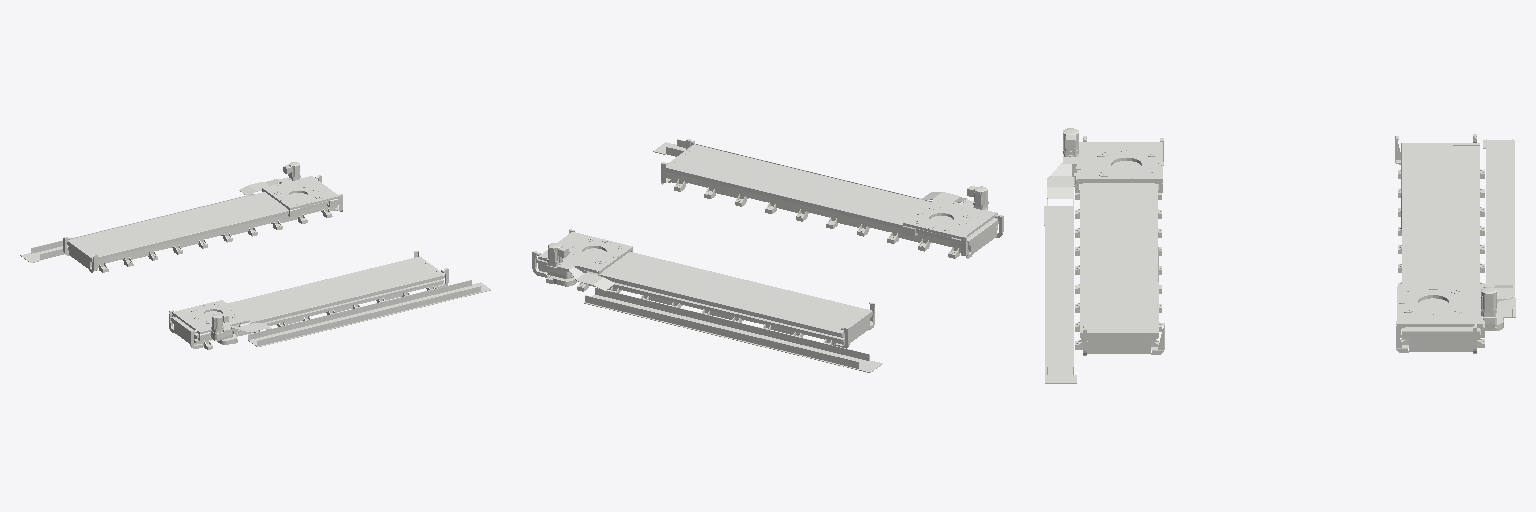
The robot description file, URDF, robot "full_cell":
<?xml version="1.0" encoding="utf-8"?>
<!-- =================================================================================== -->
<!-- |    This document was autogenerated by xacro from full_cell.xacro                | -->
<!-- |    EDITING THIS FILE BY HAND IS NOT RECOMMENDED                                 | -->
<!-- =================================================================================== -->
<robot name="full_cell">
  <!-- Conversion were obtained from http://www.e-paint.co.uk/Lab_values.asp
       unless otherwise stated. -->
  <!-- =================================================================================== -->
  <link name="world"/>
  <joint name="A_world_joint" type="fixed">
    <parent link="world"/>
    <child link="A_axis"/>
    <origin rpy="0.0 0.0 0.0" xyz="0.0 0.0 0.0"/>
  </joint>
  <!-- Conversion were obtained from http://www.e-paint.co.uk/Lab_values.asp
       unless otherwise stated. -->
  <!-- Conversion were obtained from http://www.e-paint.co.uk/Lab_values.asp
       unless otherwise stated. -->
  <link name="A_axis">
    <inertial>
      <origin xyz="0.0 0.0 0.0"/>
      <mass value="120"/>
      <inertia ixx="-4.98000" ixy="-0.00000" ixz="2.70000" iyy="-5.95200" iyz="-0.00000" izz="0.82800"/>
    </inertial>
    <visual>
      <geometry>
        <mesh filename="package://princeton_cell/meshes/visual/axis.stl"/>
      </geometry>
      <material name="">
        <color rgba="0.9254902 0.9254902 0.9058824 1"/>
      </material>
    </visual>
    <collision>
      <geometry>
        <mesh filename="package://princeton_cell/meshes/collision/axis.stl"/>
      </geometry>
    </collision>
  </link>
  <joint name="A_cart_joint" type="prismatic">
    <parent link="A_axis"/>
    <child link="A_cart"/>
    <origin rpy="0 0 0 " xyz="0 0 0"/>
    <axis xyz="1 0 0"/>
    <limit effort="100000" lower="-1.926" upper="0.675" velocity="2.618"/>
    <dynamics damping="0.2" friction="0"/>
  </joint>
  <link name="A_cart">
    <inertial>
      <origin xyz="0.0 0.0 0.0"/>
      <mass value="120.00000"/>
      <inertia ixx="-4.98000" ixy="-0.00000" ixz="2.70000" iyy="-5.95200" iyz="-0.00000" izz="0.82800"/>
    </inertial>
    <visual>
      <geometry>
        <mesh filename="package://princeton_cell/meshes/visual/cart.stl"/>
      </geometry>
      <material name="">
        <color rgba="0.9254902 0.9254902 0.9058824 1"/>
      </material>
    </visual>
    <collision>
      <geometry>
        <mesh filename="package://princeton_cell/meshes/collision/cart.stl"/>
      </geometry>
    </collision>
  </link>
  <joint name="A_abb_joint" type="fixed">
    <parent link="A_cart"/>
    <child link="A_base_link"/>
    <origin rpy="0 0 1.57079632679 " xyz="0 0 0 "/>
    <dynamics damping="0.2" friction="0"/>
  </joint>
  <!-- link list -->
  <link name="A_base_link">
    <inertial>
      <origin xyz="0.0 0.0 0.0"/>
      <mass value="120.00000"/>
      <inertia ixx="-4.98000" ixy="-0.00000" ixz="2.70000" iyy="-5.95200" iyz="-0.00000" izz="0.82800"/>
    </inertial>
    <visual>
      <geometry>
        <mesh filename="package://abb_irb4600_40_255/meshes/visual/base_link.stl"/>
      </geometry>
      <material name="">
        <color rgba="0.7725490 0.7803922 0.7686275 1"/>
      </material>
    </visual>
    <collision>
      <geometry>
        <mesh filename="package://abb_irb4600_40_255/meshes/collision/base_link.stl"/>
      </geometry>
    </collision>
  </link>
  <link name="A_link_1">
    <inertial>
      <origin xyz="0.18000 0.00000 0.50000"/>
      <mass value="120.00000"/>
      <inertia ixx="-4.98000" ixy="-0.00000" ixz="2.70000" iyy="-5.95200" iyz="-0.00000" izz="0.82800"/>
    </inertial>
    <visual>
      <geometry>
        <mesh filename="package://abb_irb4600_40_255/meshes/visual/link_1.stl"/>
      </geometry>
      <material name="">
        <color rgba="0.7725490 0.7803922 0.7686275 1"/>
      </material>
    </visual>
    <collision>
      <geometry>
        <mesh filename="package://abb_irb4600_40_255/meshes/collision/link_1.stl"/>
      </geometry>
    </collision>
  </link>
  <link name="A_link_2">
    <inertial>
      <origin xyz="0.94000 0.08000 -0.34000"/>
      <mass value="120.00000"/>
      <inertia ixx="-2.96000" ixy="2.25600" ixz="-9.58800" iyy="-18.72601" iyz="-0.81600" izz="-14.95000"/>
    </inertial>
    <visual>
      <geometry>
        <mesh filename="package://abb_irb4600_40_255/meshes/visual/link_2.stl"/>
      </geometry>
      <material name="">
        <color rgba="0.7725490 0.7803922 0.7686275 1"/>
      </material>
    </visual>
    <collision>
      <geometry>
        <mesh filename="package://abb_irb4600_40_255/meshes/collision/link_2.stl"/>
      </geometry>
    </collision>
  </link>
  <link name="A_link_3">
    <inertial>
      <origin xyz="0.07000 -0.26600 0.08800"/>
      <mass value="120.00000"/>
      <inertia ixx="1.34500" ixy="-0.55860" ixz="0.18480" iyy="4.65068" iyz="-0.70224" izz="2.76032"/>
    </inertial>
    <visual>
      <geometry>
        <mesh filename="package://abb_irb4600_40_255/meshes/visual/link_3.stl"/>
      </geometry>
      <material name="">
        <color rgba="0.7725490 0.7803922 0.7686275 1"/>
      </material>
    </visual>
    <collision>
      <geometry>
        <mesh filename="package://abb_irb4600_40_255/meshes/collision/link_3.stl"/>
      </geometry>
    </collision>
  </link>
  <link name="A_link_4">
    <inertial>
      <origin xyz="0.00000 0.00000 1.00000"/>
      <mass value="40.00000"/>
      <inertia ixx="-8.00000" ixy="-0.00000" ixz="-0.00000" iyy="-8.00000" iyz="-0.00000" izz="0.48200"/>
    </inertial>
    <visual>
      <geometry>
        <mesh filename="package://abb_irb4600_40_255/meshes/visual/link_4.stl"/>
      </geometry>
      <material name="">
        <color rgba="0.7725490 0.7803922 0.7686275 1"/>
      </material>
    </visual>
    <collision>
      <geometry>
        <mesh filename="package://abb_irb4600_40_255/meshes/collision/link_4.stl"/>
      </geometry>
    </collision>
  </link>
  <link name="A_link_5">
    <inertial>
      <origin xyz="0.14000 0.00000 0.00000"/>
      <mass value="10.00000"/>
      <inertia ixx="0.04000" ixy="-0.00000" ixz="-0.00000" iyy="-0.00900" iyz="-0.00000" izz="-0.00400"/>
    </inertial>
    <visual>
      <geometry>
        <mesh filename="package://abb_irb4600_40_255/meshes/visual/link_5.stl"/>
      </geometry>
      <material name="">
        <color rgba="0.7725490 0.7803922 0.7686275 1"/>
      </material>
    </visual>
    <collision>
      <geometry>
        <mesh filename="package://abb_irb4600_40_255/meshes/collision/link_5.stl"/>
      </geometry>
    </collision>
  </link>
  <link name="A_link_6">
    <inertial>
      <origin xyz="0.08100 -0.09100 0.33200"/>
      <mass value="5.00000"/>
      <inertia ixx="-0.29652" ixy="-0.03686" ixz="0.09396" iyy="-0.28792" iyz="-0.10556" izz="-0.04621"/>
    </inertial>
    <visual>
      <geometry>
        <mesh filename="package://abb_irb4600_40_255/meshes/visual/link_6.stl"/>
      </geometry>
      <material name="">
        <color rgba="0.1882353 0.1960784 0.2039216 1"/>
      </material>
    </visual>
    <collision>
      <geometry>
        <mesh filename="package://abb_irb4600_40_255/meshes/collision/link_6.stl"/>
      </geometry>
    </collision>
  </link>
  <link name="A_tool0"/>
  <!-- end of link list -->
  <!-- joint list -->
  <joint name="A_joint_1" type="revolute">
    <parent link="A_base_link"/>
    <child link="A_link_1"/>
    <origin rpy="0 0 0 " xyz="0 0 0"/>
    <axis xyz="0 0 1"/>
    <limit effort="100000" lower="-3.14159" upper="3.14159" velocity="2.618"/>
    <dynamics damping="0.2" friction="0"/>
  </joint>
  <joint name="A_joint_2" type="revolute">
    <parent link="A_link_1"/>
    <child link="A_link_2"/>
    <origin rpy="0 -0 0 " xyz="0.175 0 0.495"/>
    <axis xyz="0 1 0"/>
    <limit effort="100000" lower="-1.5708" upper="2.61799" velocity="2.618"/>
    <dynamics damping="0.2" friction="0"/>
  </joint>
  <joint name="A_joint_3" type="revolute">
    <parent link="A_link_2"/>
    <child link="A_link_3"/>
    <origin rpy="0 -0 0 " xyz="0 0 1.095"/>
    <axis xyz="0 1 0"/>
    <limit effort="100000" lower="-3.14159" upper="1.309" velocity="2.618"/>
    <dynamics damping="0.2" friction="0"/>
  </joint>
  <joint name="A_joint_4" type="revolute">
    <parent link="A_link_3"/>
    <child link="A_link_4"/>
    <origin rpy="0 -0 0 " xyz="0.332 0 0.175"/>
    <axis xyz="1 0 0"/>
    <limit effort="10000" lower="-6.98132" upper="6.98132" velocity="6.2832"/>
    <dynamics damping="0.2" friction="0"/>
  </joint>
  <joint name="A_joint_5" type="revolute">
    <parent link="A_link_4"/>
    <child link="A_link_5"/>
    <origin rpy="0 -0 0 " xyz="0.939 0 0"/>
    <axis xyz="0 1 0"/>
    <limit effort="100000" lower="-2.18166" upper="2.0944" velocity="6.2832"/>
    <dynamics damping="0.2" friction="0"/>
  </joint>
  <joint name="A_joint_6" type="revolute">
    <parent link="A_link_5"/>
    <child link="A_link_6"/>
    <origin rpy="0 1.57076 0 " xyz="0.135 0 0"/>
    <axis xyz="0 0 1"/>
    <limit effort="100000" lower="-6.98132" upper="6.98132" velocity="7.854"/>
    <dynamics damping="0.2" friction="0"/>
  </joint>
  <joint name="A_joint_6-tool0" type="fixed">
    <parent link="A_link_6"/>
    <child link="A_tool0"/>
    <origin rpy="0 0 0" xyz="0 0 0"/>
  </joint>
  <!-- end of joint list -->
  <!-- ROS base_link to ABB World Coordinates transform -->
  <link name="A_base"/>
  <joint name="A_base_link-base" type="fixed">
    <origin rpy="0 0 0" xyz="0 0 0"/>
    <parent link="A_base_link"/>
    <child link="A_base"/>
  </joint>
  <joint name="B_world_joint" type="fixed">
    <parent link="world"/>
    <child link="B_axis"/>
    <origin rpy="0.0 0.0 3.14159" xyz="3.70 3.45 0.02"/>
  </joint>
  <!-- Conversion were obtained from http://www.e-paint.co.uk/Lab_values.asp
       unless otherwise stated. -->
  <!-- Conversion were obtained from http://www.e-paint.co.uk/Lab_values.asp
       unless otherwise stated. -->
  <link name="B_axis">
    <inertial>
      <origin xyz="0.0 0.0 0.0"/>
      <mass value="120"/>
      <inertia ixx="-4.98000" ixy="-0.00000" ixz="2.70000" iyy="-5.95200" iyz="-0.00000" izz="0.82800"/>
    </inertial>
    <visual>
      <geometry>
        <mesh filename="package://princeton_cell/meshes/visual/axis.stl"/>
      </geometry>
      <material name="">
        <color rgba="0.9254902 0.9254902 0.9058824 1"/>
      </material>
    </visual>
    <collision>
      <geometry>
        <mesh filename="package://princeton_cell/meshes/collision/axis.stl"/>
      </geometry>
    </collision>
  </link>
  <joint name="B_cart_joint" type="prismatic">
    <parent link="B_axis"/>
    <child link="B_cart"/>
    <origin rpy="0 0 0 " xyz="0 0 0"/>
    <axis xyz="1 0 0"/>
    <limit effort="100000" lower="-1.926" upper="0.675" velocity="2.618"/>
    <dynamics damping="0.2" friction="0"/>
  </joint>
  <link name="B_cart">
    <inertial>
      <origin xyz="0.0 0.0 0.0"/>
      <mass value="120.00000"/>
      <inertia ixx="-4.98000" ixy="-0.00000" ixz="2.70000" iyy="-5.95200" iyz="-0.00000" izz="0.82800"/>
    </inertial>
    <visual>
      <geometry>
        <mesh filename="package://princeton_cell/meshes/visual/cart.stl"/>
      </geometry>
      <material name="">
        <color rgba="0.9254902 0.9254902 0.9058824 1"/>
      </material>
    </visual>
    <collision>
      <geometry>
        <mesh filename="package://princeton_cell/meshes/collision/cart.stl"/>
      </geometry>
    </collision>
  </link>
  <joint name="B_abb_joint" type="fixed">
    <parent link="B_cart"/>
    <child link="B_base_link"/>
    <origin rpy="0 0 1.57079632679 " xyz="0 0 0 "/>
    <dynamics damping="0.2" friction="0"/>
  </joint>
  <!-- link list -->
  <link name="B_base_link">
    <inertial>
      <origin xyz="0.0 0.0 0.0"/>
      <mass value="120.00000"/>
      <inertia ixx="-4.98000" ixy="-0.00000" ixz="2.70000" iyy="-5.95200" iyz="-0.00000" izz="0.82800"/>
    </inertial>
    <visual>
      <geometry>
        <mesh filename="package://abb_irb4600_40_255/meshes/visual/base_link.stl"/>
      </geometry>
      <material name="">
        <color rgba="0.7725490 0.7803922 0.7686275 1"/>
      </material>
    </visual>
    <collision>
      <geometry>
        <mesh filename="package://abb_irb4600_40_255/meshes/collision/base_link.stl"/>
      </geometry>
    </collision>
  </link>
  <link name="B_link_1">
    <inertial>
      <origin xyz="0.18000 0.00000 0.50000"/>
      <mass value="120.00000"/>
      <inertia ixx="-4.98000" ixy="-0.00000" ixz="2.70000" iyy="-5.95200" iyz="-0.00000" izz="0.82800"/>
    </inertial>
    <visual>
      <geometry>
        <mesh filename="package://abb_irb4600_40_255/meshes/visual/link_1.stl"/>
      </geometry>
      <material name="">
        <color rgba="0.7725490 0.7803922 0.7686275 1"/>
      </material>
    </visual>
    <collision>
      <geometry>
        <mesh filename="package://abb_irb4600_40_255/meshes/collision/link_1.stl"/>
      </geometry>
    </collision>
  </link>
  <link name="B_link_2">
    <inertial>
      <origin xyz="0.94000 0.08000 -0.34000"/>
      <mass value="120.00000"/>
      <inertia ixx="-2.96000" ixy="2.25600" ixz="-9.58800" iyy="-18.72601" iyz="-0.81600" izz="-14.95000"/>
    </inertial>
    <visual>
      <geometry>
        <mesh filename="package://abb_irb4600_40_255/meshes/visual/link_2.stl"/>
      </geometry>
      <material name="">
        <color rgba="0.7725490 0.7803922 0.7686275 1"/>
      </material>
    </visual>
    <collision>
      <geometry>
        <mesh filename="package://abb_irb4600_40_255/meshes/collision/link_2.stl"/>
      </geometry>
    </collision>
  </link>
  <link name="B_link_3">
    <inertial>
      <origin xyz="0.07000 -0.26600 0.08800"/>
      <mass value="120.00000"/>
      <inertia ixx="1.34500" ixy="-0.55860" ixz="0.18480" iyy="4.65068" iyz="-0.70224" izz="2.76032"/>
    </inertial>
    <visual>
      <geometry>
        <mesh filename="package://abb_irb4600_40_255/meshes/visual/link_3.stl"/>
      </geometry>
      <material name="">
        <color rgba="0.7725490 0.7803922 0.7686275 1"/>
      </material>
    </visual>
    <collision>
      <geometry>
        <mesh filename="package://abb_irb4600_40_255/meshes/collision/link_3.stl"/>
      </geometry>
    </collision>
  </link>
  <link name="B_link_4">
    <inertial>
      <origin xyz="0.00000 0.00000 1.00000"/>
      <mass value="40.00000"/>
      <inertia ixx="-8.00000" ixy="-0.00000" ixz="-0.00000" iyy="-8.00000" iyz="-0.00000" izz="0.48200"/>
    </inertial>
    <visual>
      <geometry>
        <mesh filename="package://abb_irb4600_40_255/meshes/visual/link_4.stl"/>
      </geometry>
      <material name="">
        <color rgba="0.7725490 0.7803922 0.7686275 1"/>
      </material>
    </visual>
    <collision>
      <geometry>
        <mesh filename="package://abb_irb4600_40_255/meshes/collision/link_4.stl"/>
      </geometry>
    </collision>
  </link>
  <link name="B_link_5">
    <inertial>
      <origin xyz="0.14000 0.00000 0.00000"/>
      <mass value="10.00000"/>
      <inertia ixx="0.04000" ixy="-0.00000" ixz="-0.00000" iyy="-0.00900" iyz="-0.00000" izz="-0.00400"/>
    </inertial>
    <visual>
      <geometry>
        <mesh filename="package://abb_irb4600_40_255/meshes/visual/link_5.stl"/>
      </geometry>
      <material name="">
        <color rgba="0.7725490 0.7803922 0.7686275 1"/>
      </material>
    </visual>
    <collision>
      <geometry>
        <mesh filename="package://abb_irb4600_40_255/meshes/collision/link_5.stl"/>
      </geometry>
    </collision>
  </link>
  <link name="B_link_6">
    <inertial>
      <origin xyz="0.08100 -0.09100 0.33200"/>
      <mass value="5.00000"/>
      <inertia ixx="-0.29652" ixy="-0.03686" ixz="0.09396" iyy="-0.28792" iyz="-0.10556" izz="-0.04621"/>
    </inertial>
    <visual>
      <geometry>
        <mesh filename="package://abb_irb4600_40_255/meshes/visual/link_6.stl"/>
      </geometry>
      <material name="">
        <color rgba="0.1882353 0.1960784 0.2039216 1"/>
      </material>
    </visual>
    <collision>
      <geometry>
        <mesh filename="package://abb_irb4600_40_255/meshes/collision/link_6.stl"/>
      </geometry>
    </collision>
  </link>
  <link name="B_tool0"/>
  <!-- end of link list -->
  <!-- joint list -->
  <joint name="B_joint_1" type="revolute">
    <parent link="B_base_link"/>
    <child link="B_link_1"/>
    <origin rpy="0 0 0 " xyz="0 0 0"/>
    <axis xyz="0 0 1"/>
    <limit effort="100000" lower="-3.14159" upper="3.14159" velocity="2.618"/>
    <dynamics damping="0.2" friction="0"/>
  </joint>
  <joint name="B_joint_2" type="revolute">
    <parent link="B_link_1"/>
    <child link="B_link_2"/>
    <origin rpy="0 -0 0 " xyz="0.175 0 0.495"/>
    <axis xyz="0 1 0"/>
    <limit effort="100000" lower="-1.5708" upper="2.61799" velocity="2.618"/>
    <dynamics damping="0.2" friction="0"/>
  </joint>
  <joint name="B_joint_3" type="revolute">
    <parent link="B_link_2"/>
    <child link="B_link_3"/>
    <origin rpy="0 -0 0 " xyz="0 0 1.095"/>
    <axis xyz="0 1 0"/>
    <limit effort="100000" lower="-3.14159" upper="1.309" velocity="2.618"/>
    <dynamics damping="0.2" friction="0"/>
  </joint>
  <joint name="B_joint_4" type="revolute">
    <parent link="B_link_3"/>
    <child link="B_link_4"/>
    <origin rpy="0 -0 0 " xyz="0.332 0 0.175"/>
    <axis xyz="1 0 0"/>
    <limit effort="10000" lower="-6.98132" upper="6.98132" velocity="6.2832"/>
    <dynamics damping="0.2" friction="0"/>
  </joint>
  <joint name="B_joint_5" type="revolute">
    <parent link="B_link_4"/>
    <child link="B_link_5"/>
    <origin rpy="0 -0 0 " xyz="0.939 0 0"/>
    <axis xyz="0 1 0"/>
    <limit effort="100000" lower="-2.18166" upper="2.0944" velocity="6.2832"/>
    <dynamics damping="0.2" friction="0"/>
  </joint>
  <joint name="B_joint_6" type="revolute">
    <parent link="B_link_5"/>
    <child link="B_link_6"/>
    <origin rpy="0 1.57076 0 " xyz="0.135 0 0"/>
    <axis xyz="0 0 1"/>
    <limit effort="100000" lower="-6.98132" upper="6.98132" velocity="7.854"/>
    <dynamics damping="0.2" friction="0"/>
  </joint>
  <joint name="B_joint_6-tool0" type="fixed">
    <parent link="B_link_6"/>
    <child link="B_tool0"/>
    <origin rpy="0 0 0" xyz="0 0 0"/>
  </joint>
  <!-- end of joint list -->
  <!-- ROS base_link to ABB World Coordinates transform -->
  <link name="B_base"/>
  <joint name="B_base_link-base" type="fixed">
    <origin rpy="0 0 0" xyz="0 0 0"/>
    <parent link="B_base_link"/>
    <child link="B_base"/>
  </joint>
</robot>

--- What the picture shows (computed from the rendered views, not written in the file) ---
The picture shows the robot from 3 angles, left to right: view 1: azimuth 30°, elevation 25°; view 2: azimuth 150°, elevation 25°; view 3: azimuth 270°, elevation 25°; orthographic projection.
Model full_cell with 23 links and 22 joints (12 revolute, 2 prismatic, 8 fixed), rooted at world, posed all joints at 0.
Links seen in each view (by area): view 1: A_axis, B_axis, A_cart, B_cart; view 2: B_axis, A_axis, B_cart, A_cart; view 3: A_axis, B_axis, A_cart, B_cart.
Boxes of the visible links, box(x1,y1,x2,y2) form: A_axis: box(169, 251, 490, 349); B_axis: box(20, 175, 342, 272); A_cart: box(172, 300, 272, 344); B_cart: box(239, 162, 338, 216); B_axis: box(532, 229, 882, 372); A_axis: box(653, 139, 1003, 258); B_cart: box(538, 232, 632, 290); A_cart: box(903, 186, 997, 247); A_axis: box(1044, 136, 1164, 383); B_axis: box(1395, 134, 1515, 353); A_cart: box(1047, 128, 1162, 198); B_cart: box(1397, 284, 1512, 337).
Bounding box of the posed robot: 6.41 × 5.3 × 0.6662 m (x, y, z).
Meshes: 9 distinct files referenced, 4 mesh visuals loaded (2 binary STL); not drawn: 14 (reference not matched to a file when rendering).